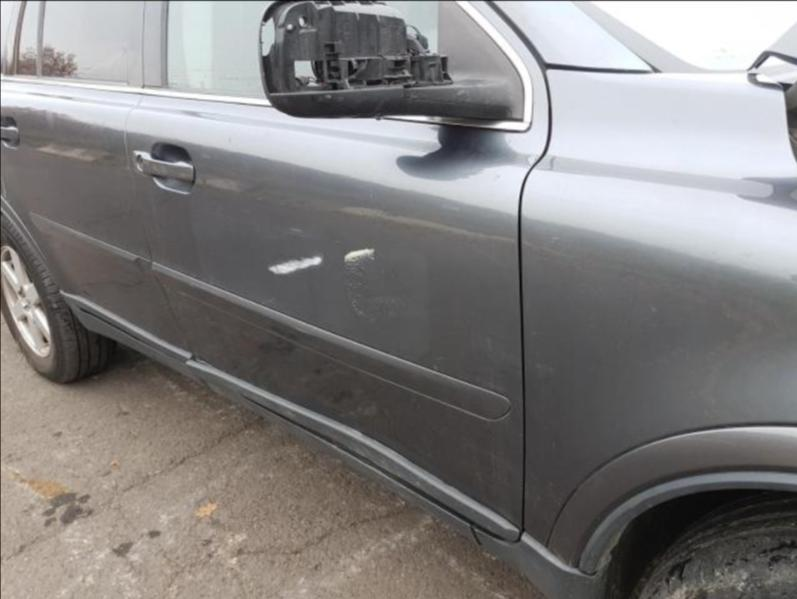Broken part: (185, 351, 519, 544), (262, 4, 453, 92)
Dent: (238, 379, 466, 515)
Paint chip: (342, 245, 374, 315), (269, 253, 321, 274)
